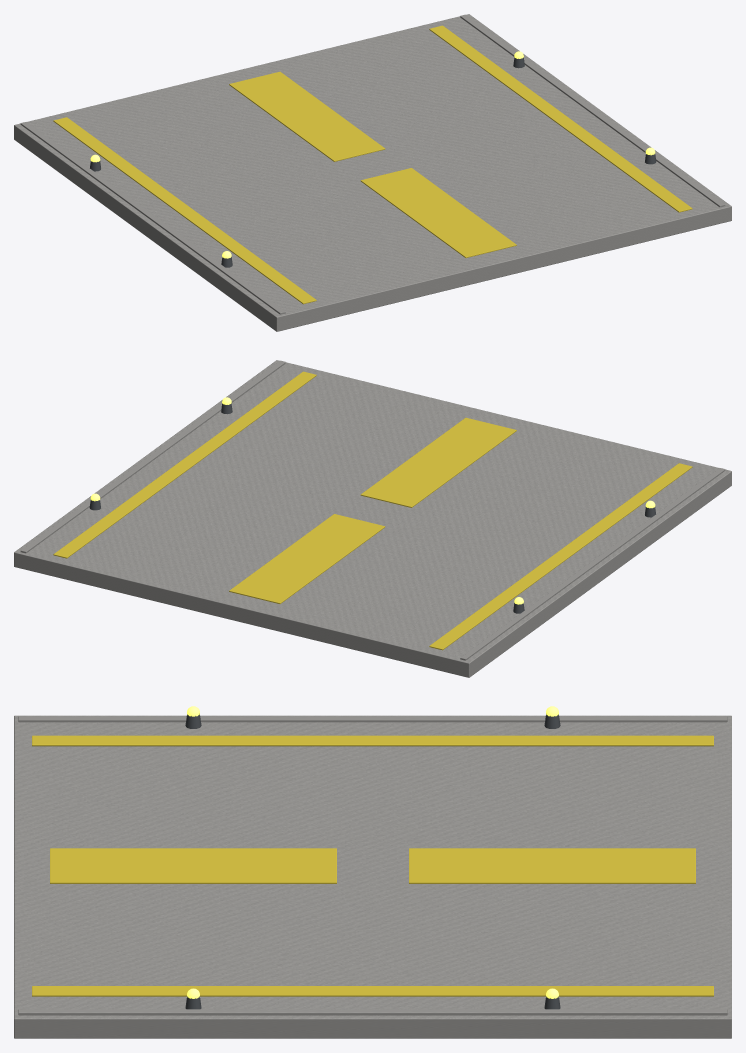
Rendered from battle-royale-town-and-airfield-runway-slab-baea3d2c__28211.glb.
The picture shows the model from 3 angles, top to bottom: view 1: azimuth 30°, elevation 25°; view 2: azimuth 150°, elevation 25°; view 3: azimuth 270°, elevation 25°; orthographic projection. The views are drawn at different scales.
Visible parts, largest first — view 1: runway-slab; view 2: runway-slab; view 3: runway-slab.
Part boxes in pixels (x1,y1,x2,y2): runway-slab: (14,14,731,331); runway-slab: (14,360,731,677); runway-slab: (14,706,731,1038).
Size of the model in its own units: 8 by 0.4851 by 8.
Materials: 4 (1 with a texture image).
